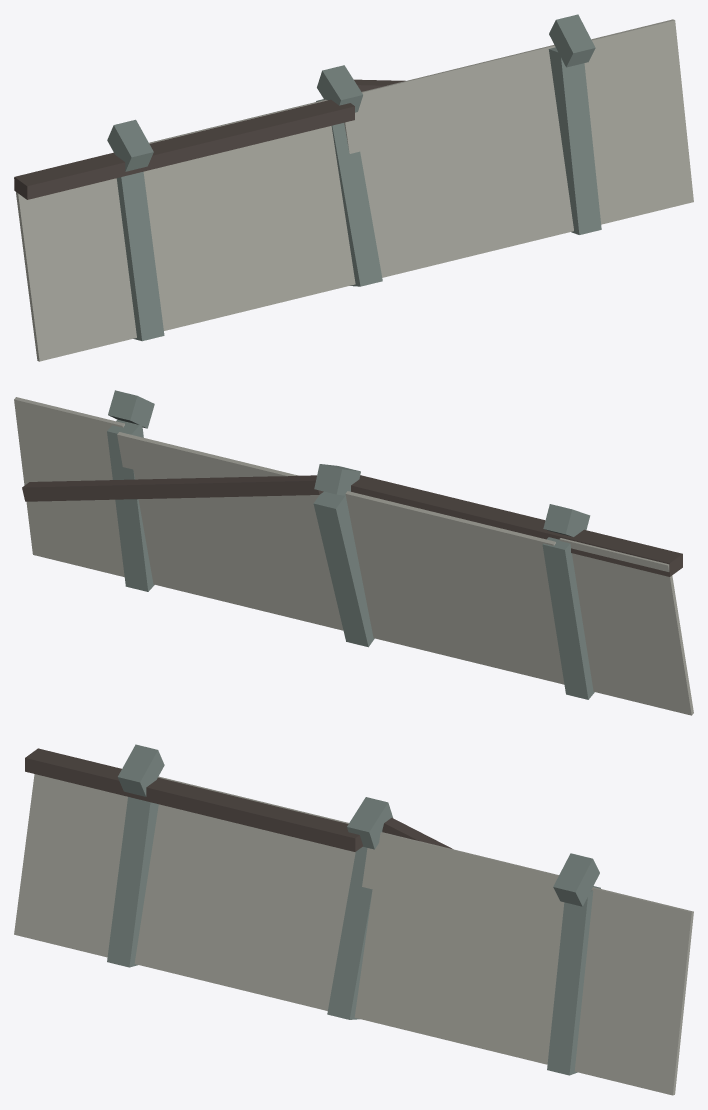
Rendered from SM_VallaBetera_Malla_e2_Danada_LOD1.fbx.
3 views of the same model, one above another, from view 1: azimuth 30°, elevation 25°; view 2: azimuth 150°, elevation 25°; view 3: azimuth 330°, elevation 25° (orthographic).
Visible parts, largest first — view 1: SM_valla_estados_v2_LOD1; view 2: SM_valla_estados_v2_LOD1; view 3: SM_valla_estados_v2_LOD1.
Part boxes in pixels (bbox=[...]): SM_valla_estados_v2_LOD1: bbox=[14, 14, 693, 361]; SM_valla_estados_v2_LOD1: bbox=[14, 390, 693, 715]; SM_valla_estados_v2_LOD1: bbox=[14, 744, 693, 1095].
Size of the model in its own units: 9.99 by 2.98 by 1.18.
